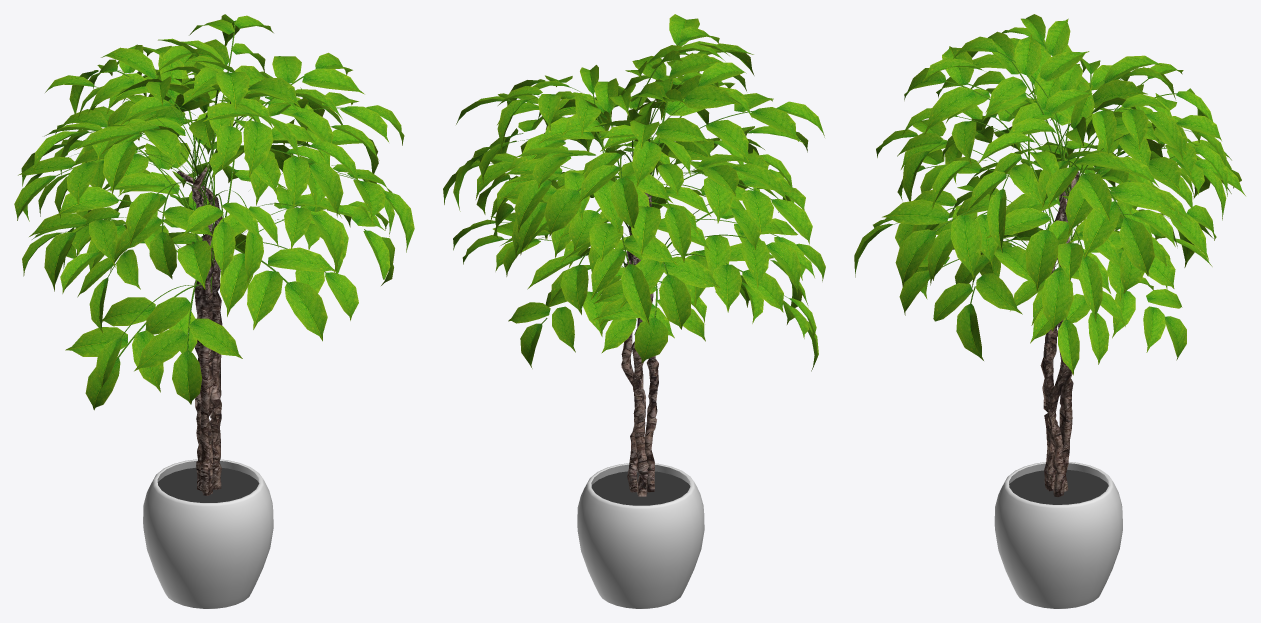
The model's file is FBX_Interior Plant.fbx.
3 views of the same model, side by side, from view 1: azimuth 30°, elevation 25°; view 2: azimuth 150°, elevation 25°; view 3: azimuth 270°, elevation 25° (orthographic). The views are drawn at different scales.
Parts seen in each view (by area): view 1: tree___GAME_polySurface706; view 2: tree___GAME_polySurface706; view 3: tree___GAME_polySurface706.
Boxes of the visible parts, x1=… form: tree___GAME_polySurface706: x1=14, y1=14, x2=414, y2=608; tree___GAME_polySurface706: x1=443, y1=14, x2=825, y2=608; tree___GAME_polySurface706: x1=854, y1=14, x2=1245, y2=608.
Size of the model in its own units: 16.79 by 24.58 by 15.83.
4 materials, 2 textured.
